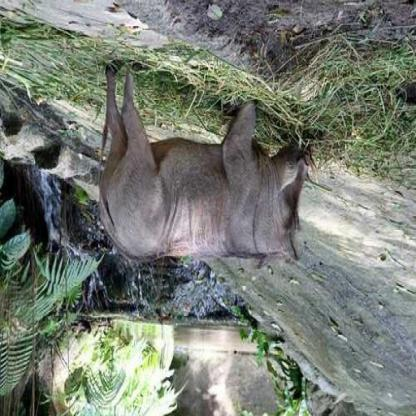boar: (98, 97, 337, 295)
